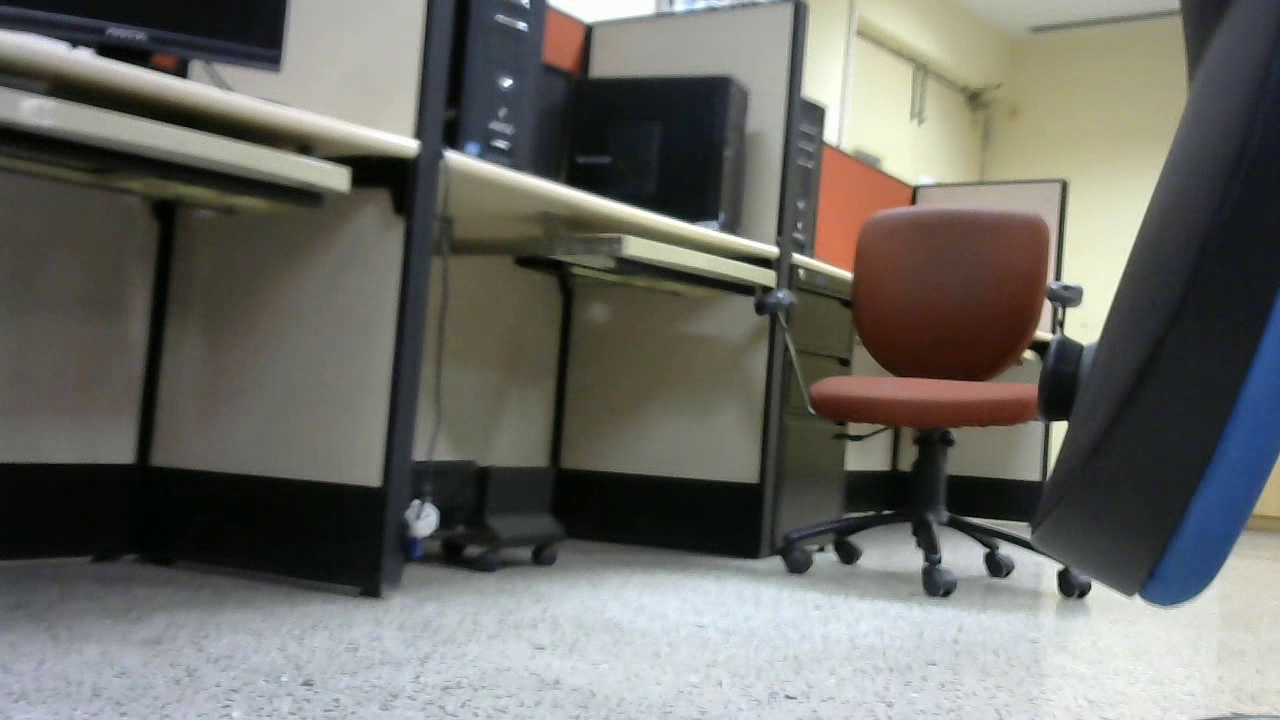chair: (762, 205, 1107, 602)
